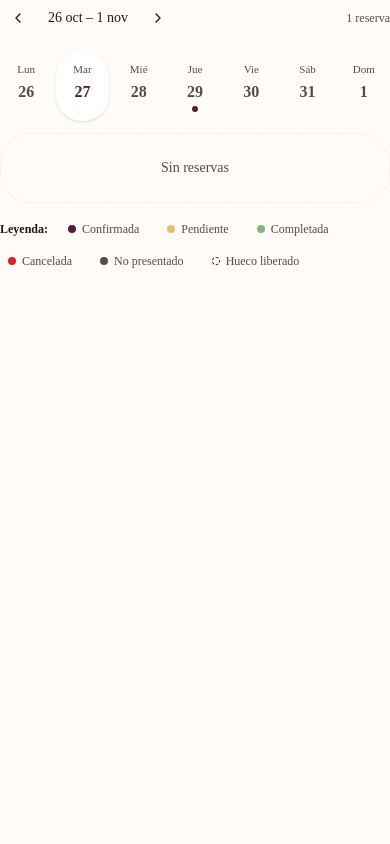
Scenario: WeeklyCalendar › en móvil abre por hoy y cambia de día con las pestañas
This screenshot has width=390, height=844.
Expected: the text "Sin reservas" is shown, 0,132 -> 389,202
What coordinates should you click on to do the following:
click the tab "Jue 29"
I would click on:
 (195, 86)
Its box is 169,52 -> 221,120.
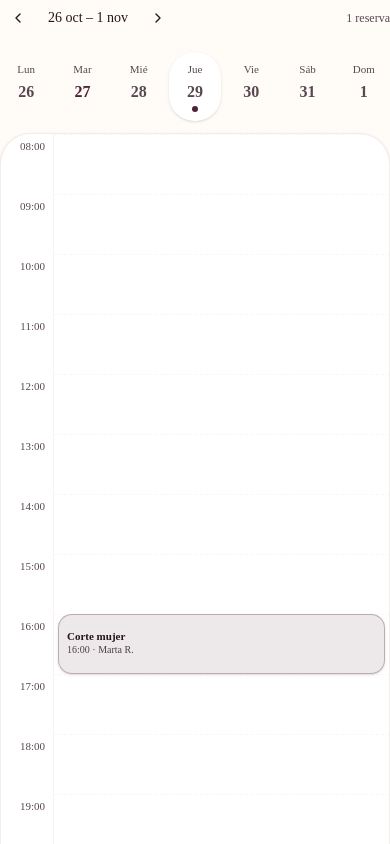
Expected: the button "Corte mujer 16:00 · Marta R." is shown, 58,614 -> 385,674
